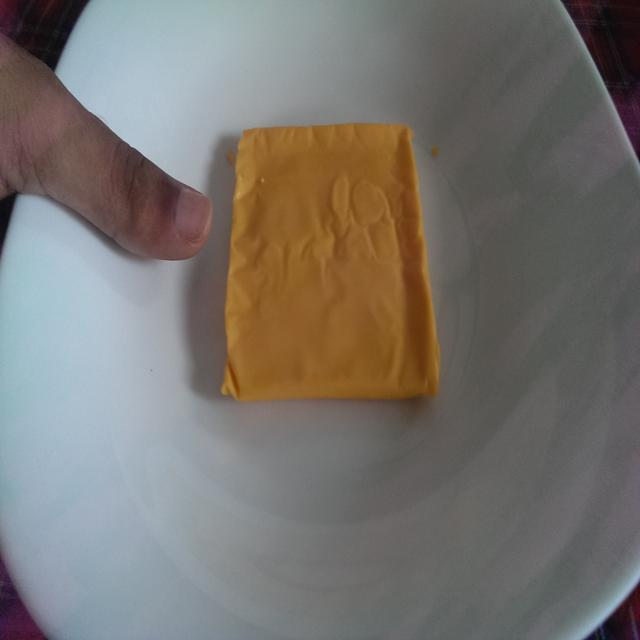Cheese: (216, 108, 444, 424)
Finger: (100, 115, 216, 274)
